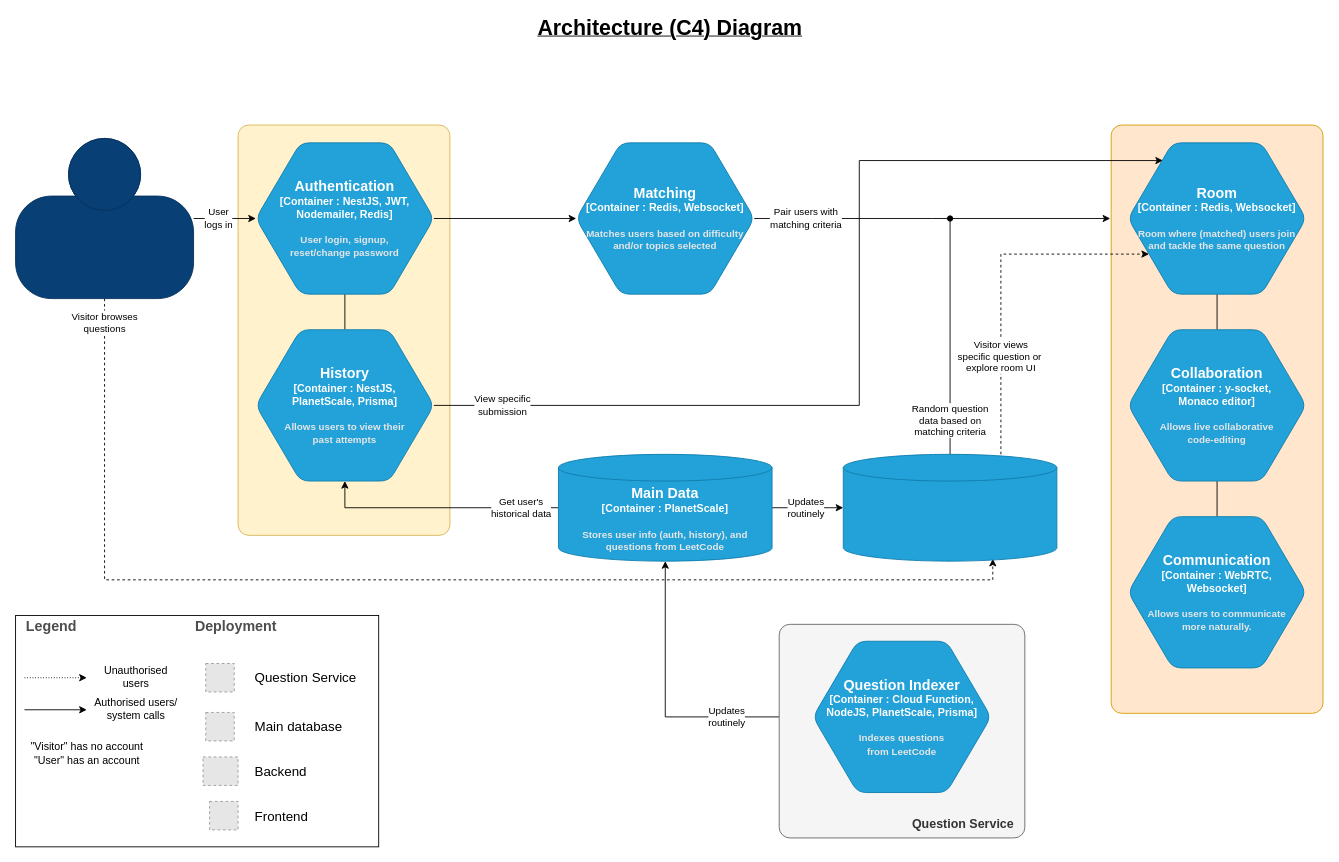
Image size: 1339x862. Some labels were removed from this diagram. Grey dashed boxes stand in for pictures. Here are the shapes that lost their labels. From the top down, the box of each, then its label:
(15, 138, 194, 299): Visitor/User [Person] Visitor -> No account User -> Has account
(237, 124, 450, 535): User Service
(1110, 124, 1323, 713): Room Service
(842, 453, 1057, 561): Cache [Container : Redis] Store temporary or frequently accessed data
